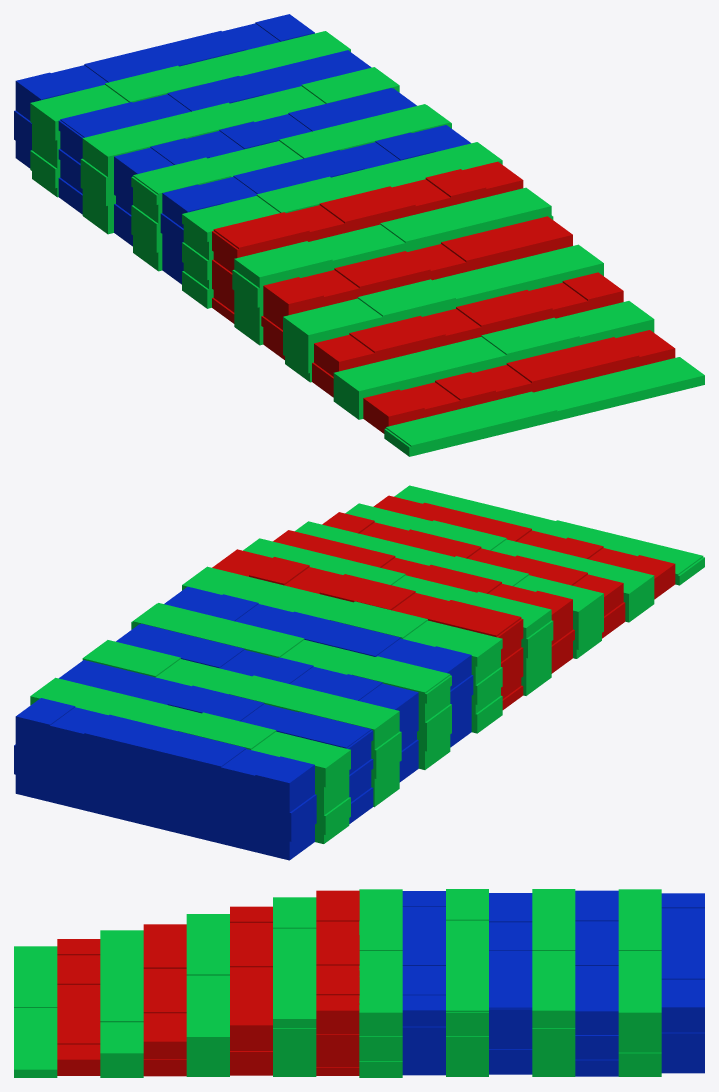
The model's file is SbS_Stairway_Low_A_01.fbx.
The picture shows the model from 3 angles, top to bottom: view 1: azimuth 30°, elevation 25°; view 2: azimuth 150°, elevation 25°; view 3: azimuth 270°, elevation 25°; orthographic projection. The views are drawn at different scales.
Visible parts, largest first — view 1: Stairway_Low_A_01; view 2: Stairway_Low_A_01; view 3: Stairway_Low_A_01.
Boxes of the visible parts, x1,y1,x2,y2 form: Stairway_Low_A_01: (14, 14, 704, 456); Stairway_Low_A_01: (14, 485, 704, 860); Stairway_Low_A_01: (14, 889, 704, 1077).
Bounding box in the file's own units: 506 × 128 × 1200.
